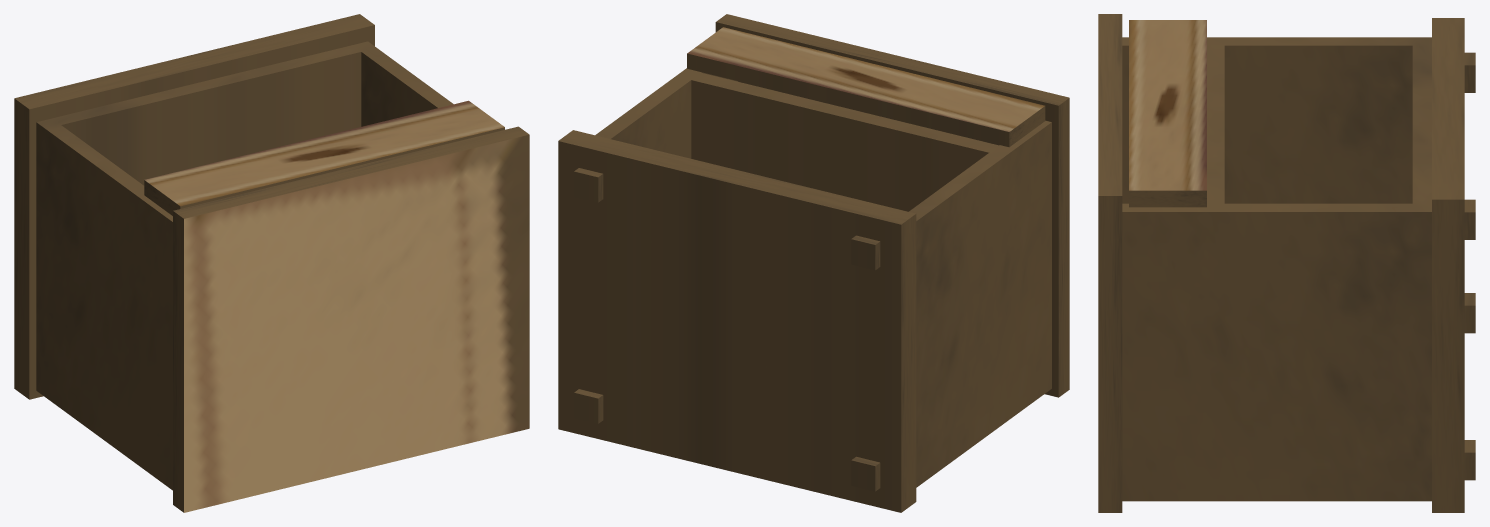
The model's file is pz_drawer_storage_01_bedroom.obj.
3 renders of one model, left to right at view 1: azimuth 30°, elevation 25°; view 2: azimuth 150°, elevation 25°; view 3: azimuth 270°, elevation 25°, orthographic. The views are drawn at different scales.
Parts seen in each view (by area): view 1: root; view 2: root; view 3: root.
Part boxes in pixels (bbox=[...]): root: bbox=[14, 14, 529, 512]; root: bbox=[558, 14, 1069, 512]; root: bbox=[1098, 14, 1475, 512].
Bounding box in the file's own units: 0.99 × 0.805 × 0.8675.
Materials: 1 (1 with a texture image).
